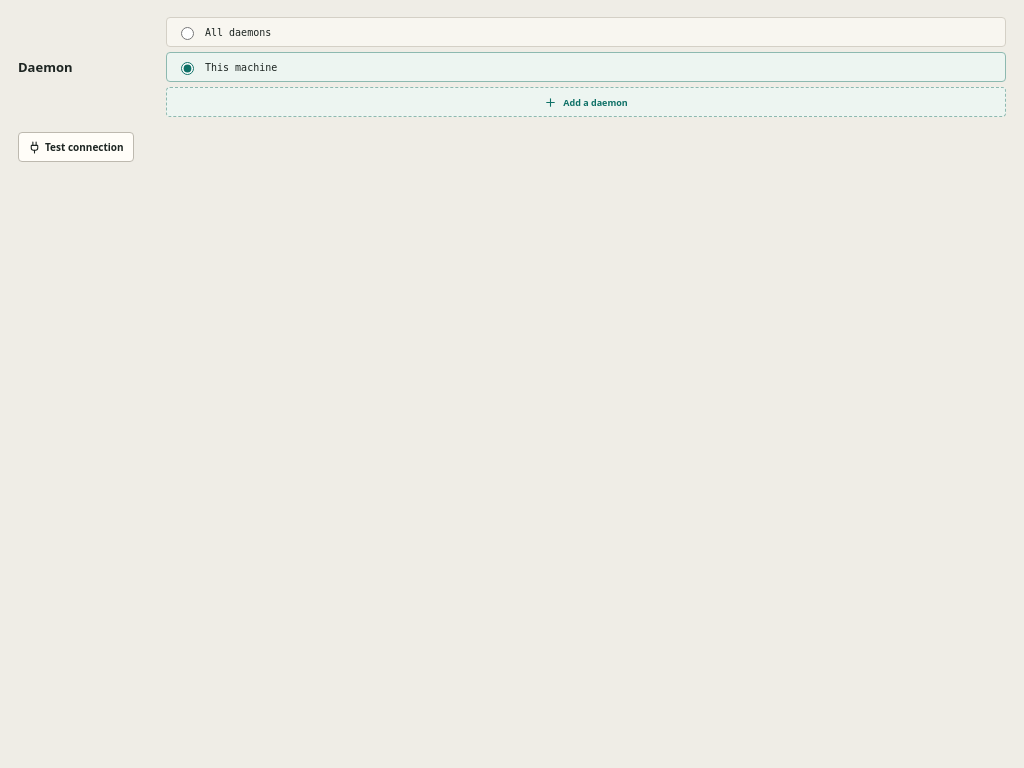
it: EndpointsPanel › ignores a stale draft name verdict
The image size is (1024, 768).
Step 1. Click the button with test id "add-deck" → point(586, 102), box [166, 87, 1006, 117]
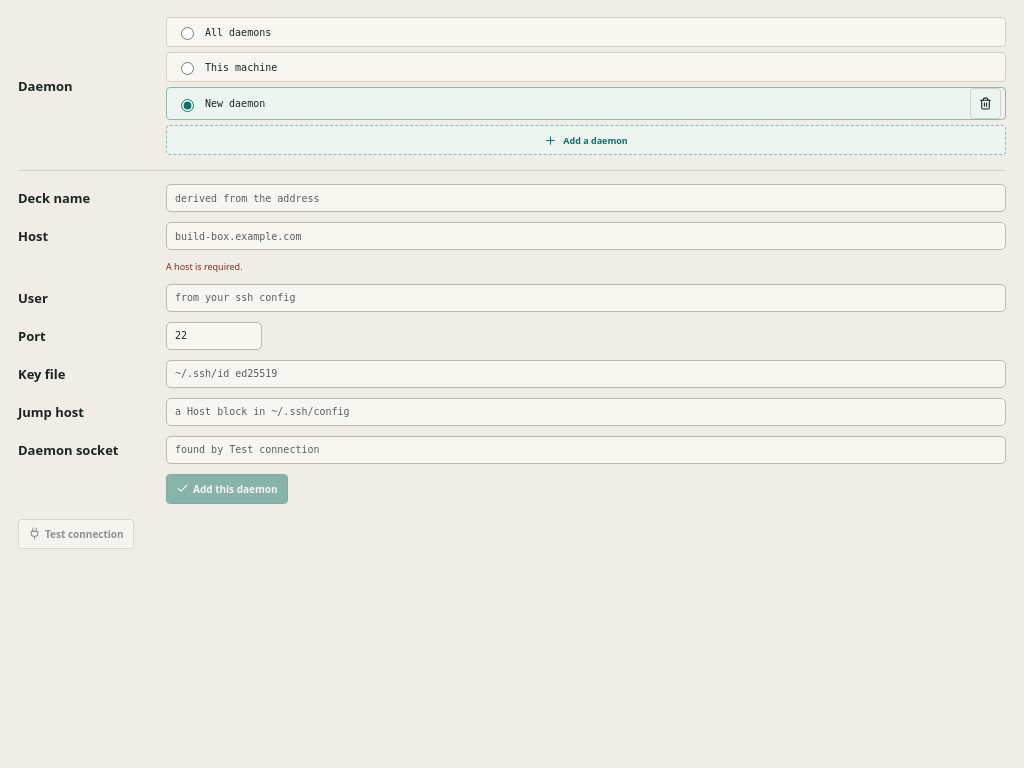
Step 2. Type "build-box" into the field labelled "Host" → point(586, 236), box [166, 222, 1006, 250]
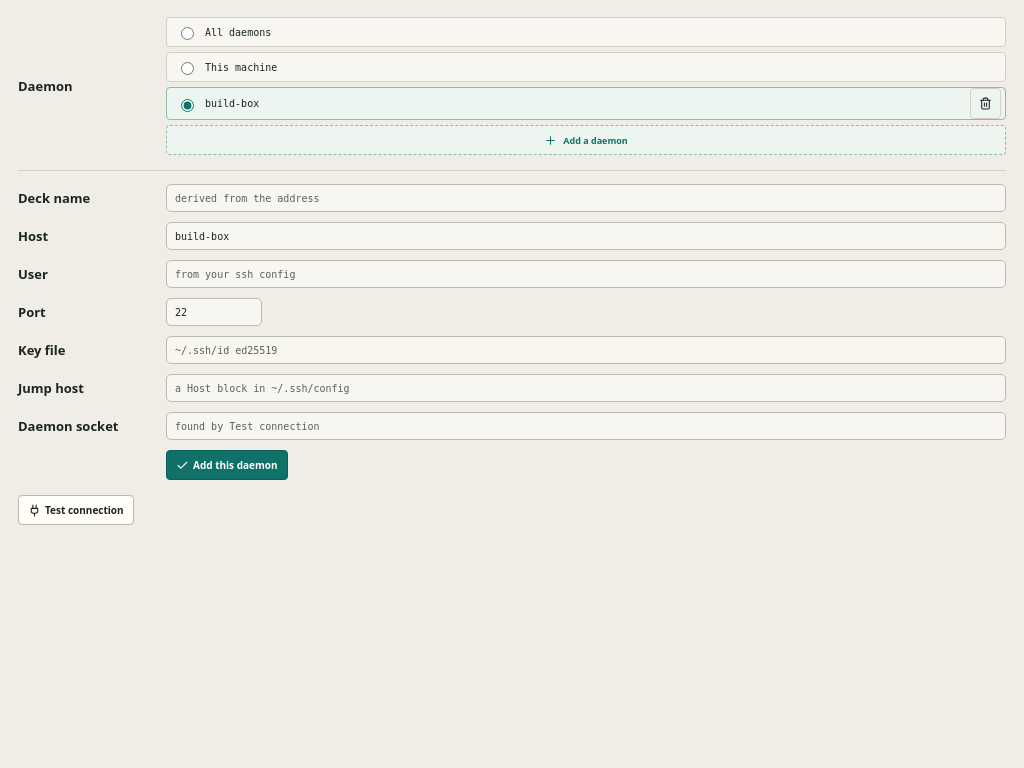
Step 3. Type "old" into the field labelled "Deck name" → point(586, 198), box [166, 184, 1006, 212]
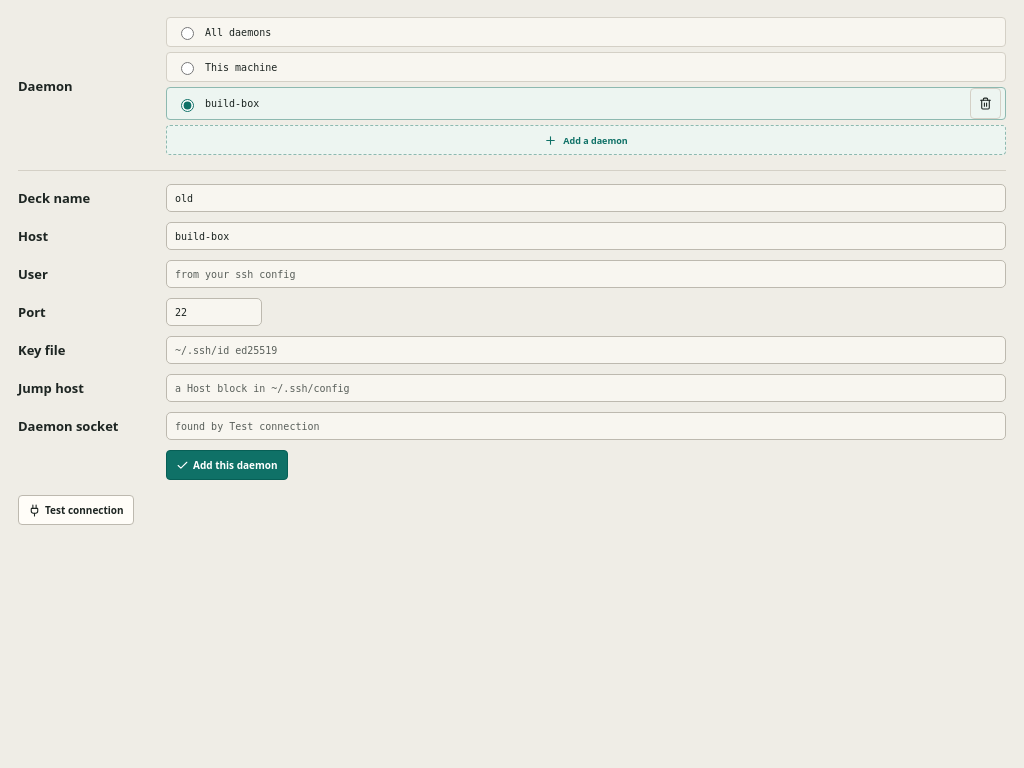
Step 4. Replace the text in the field labelled "Deck name" with "new" → point(586, 198), box [166, 184, 1006, 212]
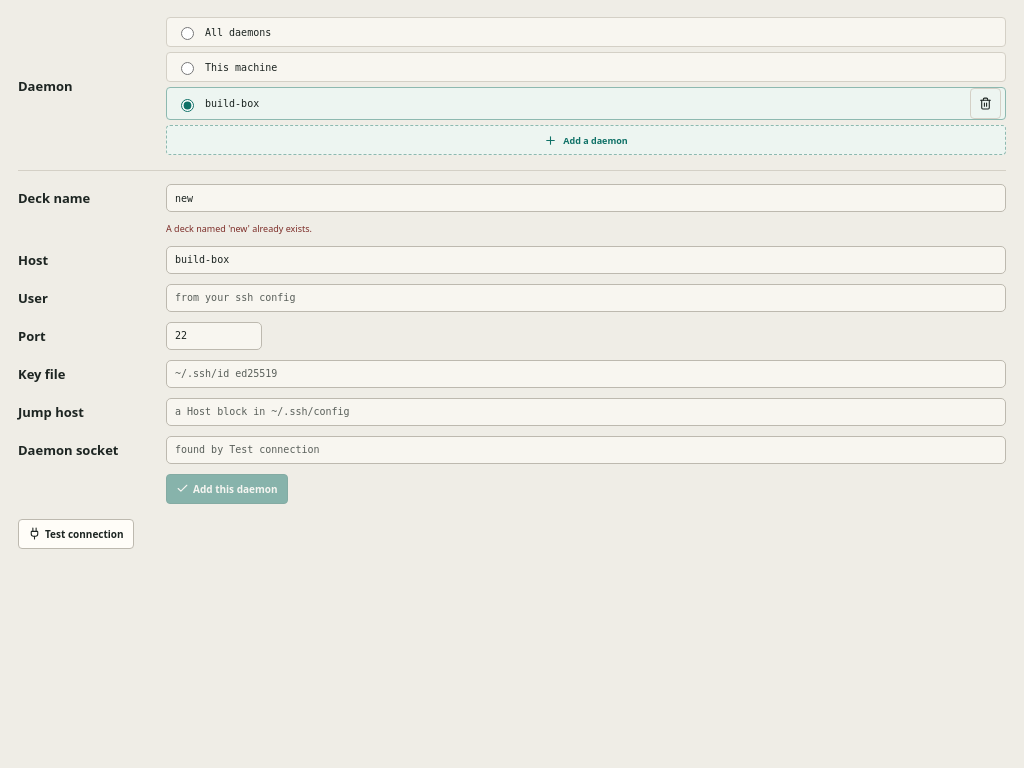
Expected: the message reads "A deck named 'new' already exists.", [166, 222, 312, 235]
Expected: the button with test id "save-new-deck" is disabled, [166, 474, 288, 504]
